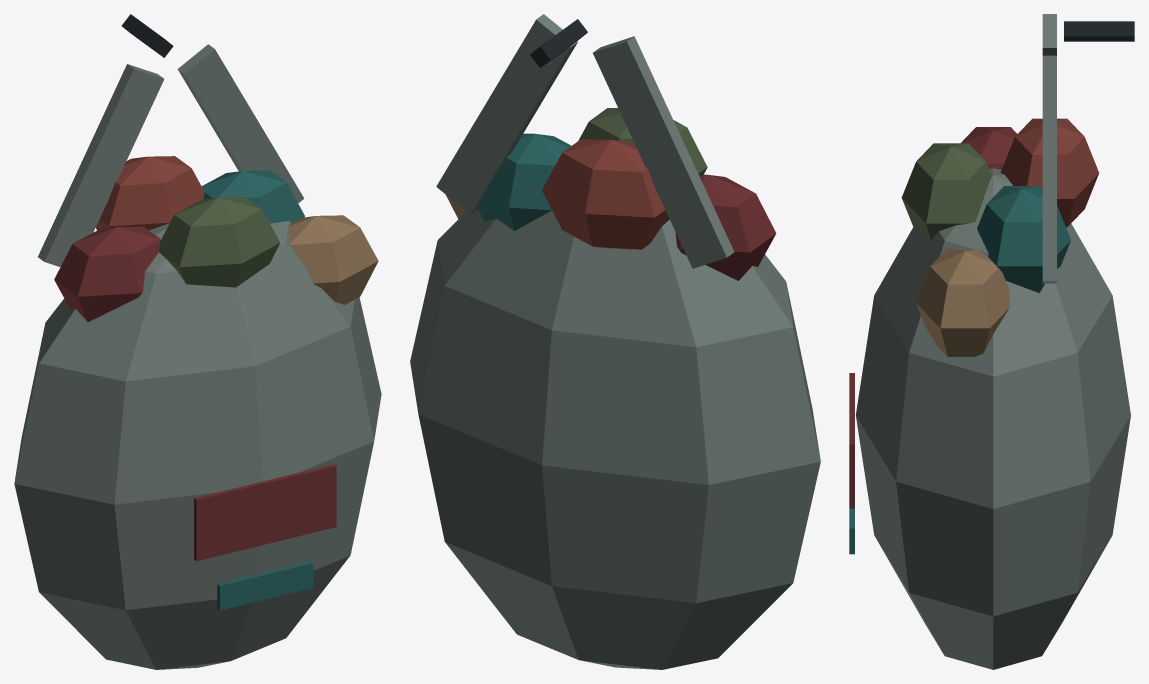
Rendered from punga_pungi.glb.
The picture shows the model from 3 angles, left to right: view 1: azimuth 30°, elevation 25°; view 2: azimuth 150°, elevation 25°; view 3: azimuth 270°, elevation 25°; orthographic projection. The views are drawn at different scales.
Visible parts, largest first — view 1: PungaPungi; view 2: PungaPungi; view 3: PungaPungi.
Boxes of the visible parts, x1=… form: PungaPungi: x1=14, y1=14, x2=381, y2=669; PungaPungi: x1=410, y1=14, x2=820, y2=669; PungaPungi: x1=849, y1=14, x2=1134, y2=669.
Size of the model in its own units: 0.315 by 0.4955 by 0.202.
